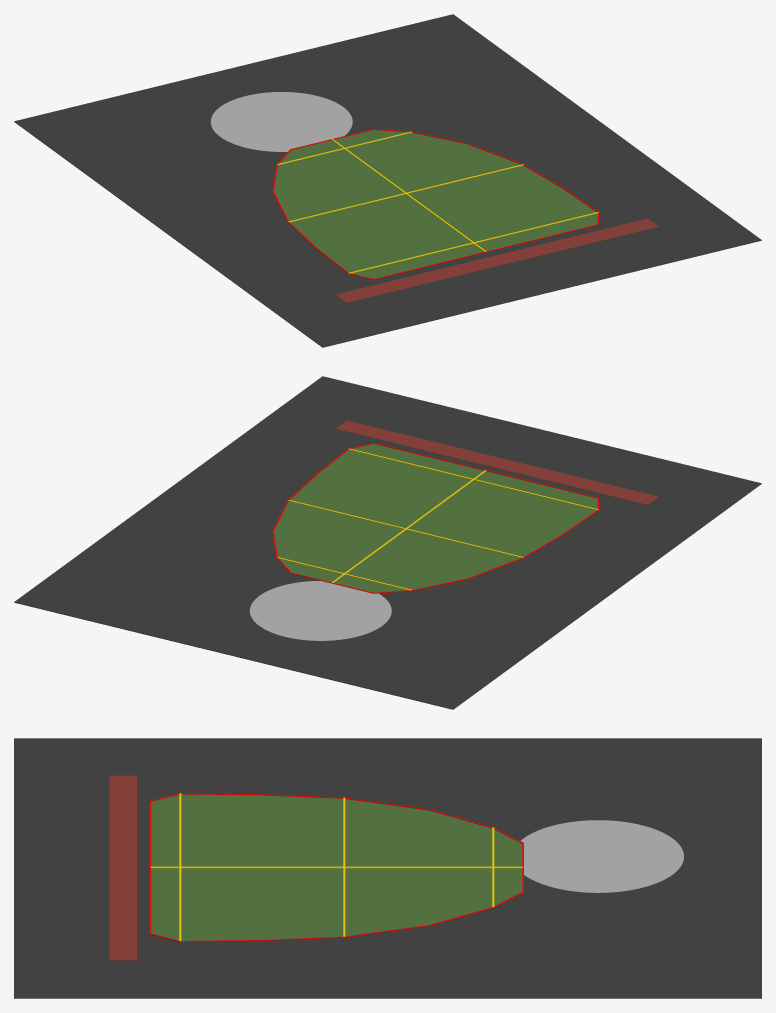
File: huizenga_lawn.obj
3 renders of one model, top to bottom at view 1: azimuth 30°, elevation 25°; view 2: azimuth 150°, elevation 25°; view 3: azimuth 270°, elevation 25°, orthographic. The views are drawn at different scales.
Parts seen in each view (by area): view 1: Ground, LAWN, Context_Las_Olas_Circle, Context_Sweetwaters_Walkway; view 2: Ground, LAWN, Context_Las_Olas_Circle, Context_Sweetwaters_Walkway; view 3: Ground, LAWN, Context_Las_Olas_Circle, Context_Sweetwaters_Walkway, MARKER_Length_54.6m.
Part boxes in pixels (box(x1,y1,x2,y2)): Ground: box(14, 14, 761, 347); LAWN: box(274, 130, 597, 278); Context_Las_Olas_Circle: box(210, 92, 352, 151); Context_Sweetwaters_Walkway: box(336, 218, 658, 302); Ground: box(14, 376, 761, 709); LAWN: box(274, 443, 597, 592); Context_Las_Olas_Circle: box(250, 581, 391, 640); Context_Sweetwaters_Walkway: box(335, 420, 658, 504); Ground: box(14, 738, 761, 998); LAWN: box(151, 794, 522, 940); Context_Las_Olas_Circle: box(521, 820, 683, 892); Context_Sweetwaters_Walkway: box(109, 775, 136, 960); MARKER_Length_54.6m: box(150, 866, 522, 868).
Size of the model in its own units: 90 by 0.25 by 110.
